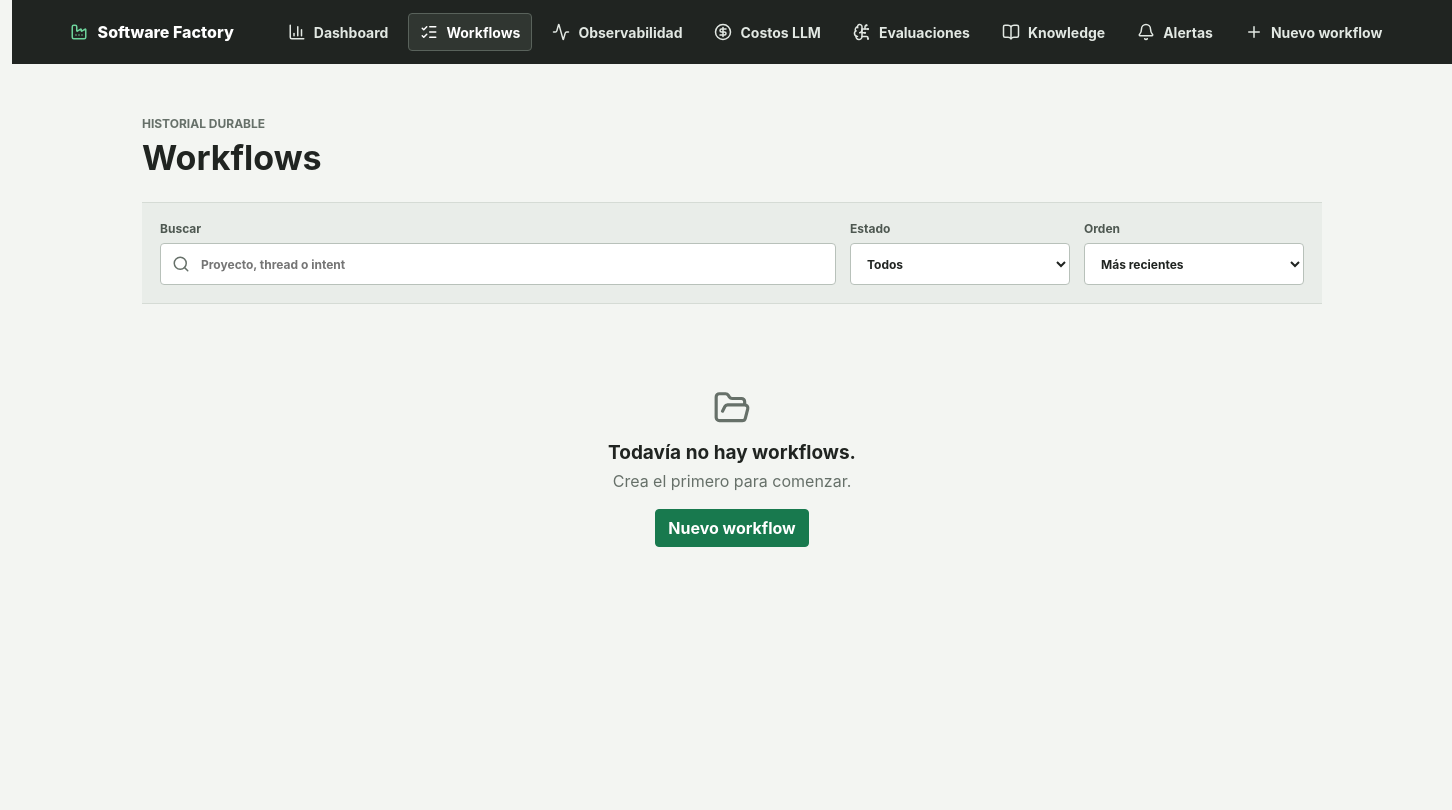
Test: workflow list › maps project A-Z sorting to query params
Select "Proyecto A-Z" in the dropdown labelled "Orden" at (1194, 264), box [1084,243,1304,285]
(page scrolled)
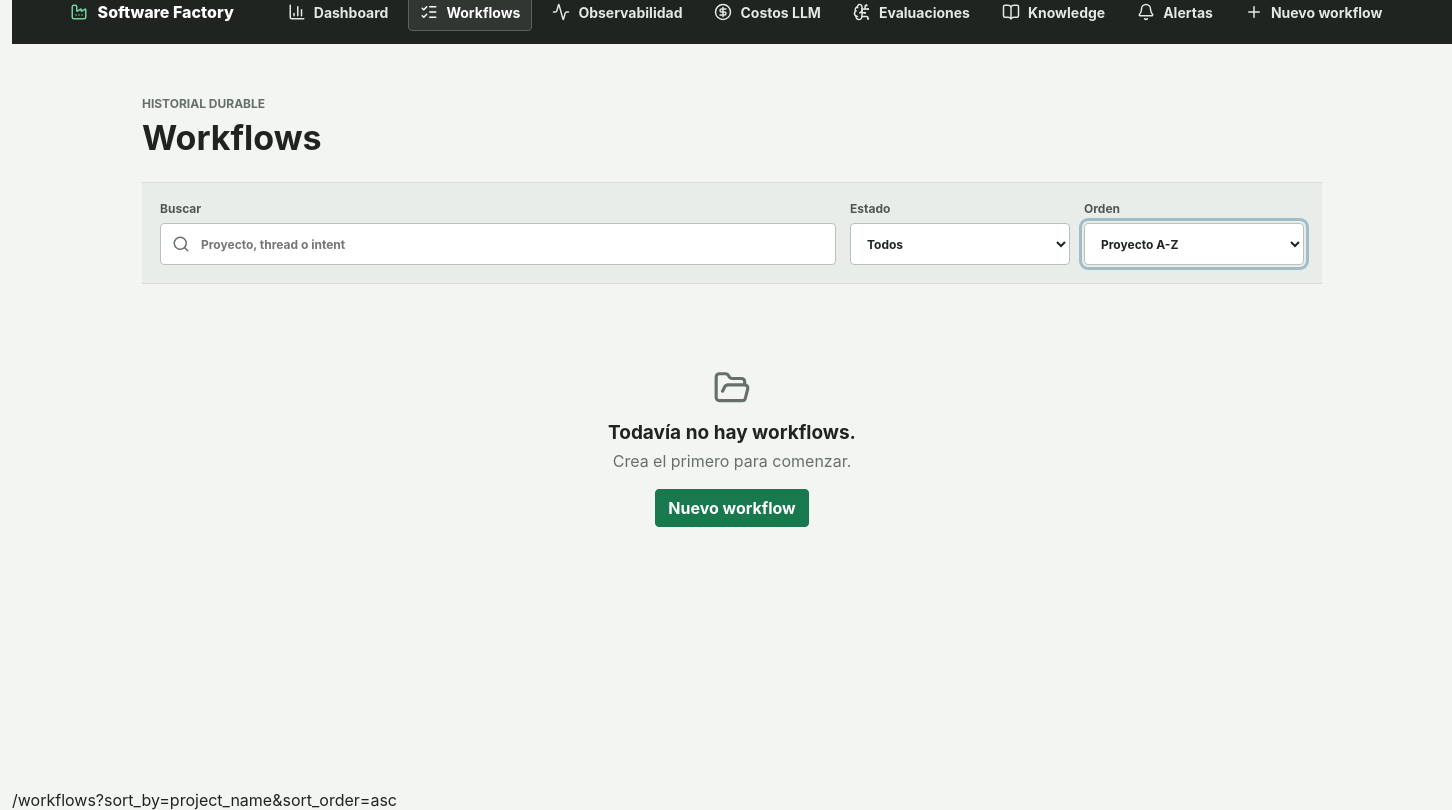
Now the text with test id "location" shows "sort_by=project_name", box [96,790,397,809]
Now the text with test id "location" shows "sort_order=asc", box [96,790,397,809]
